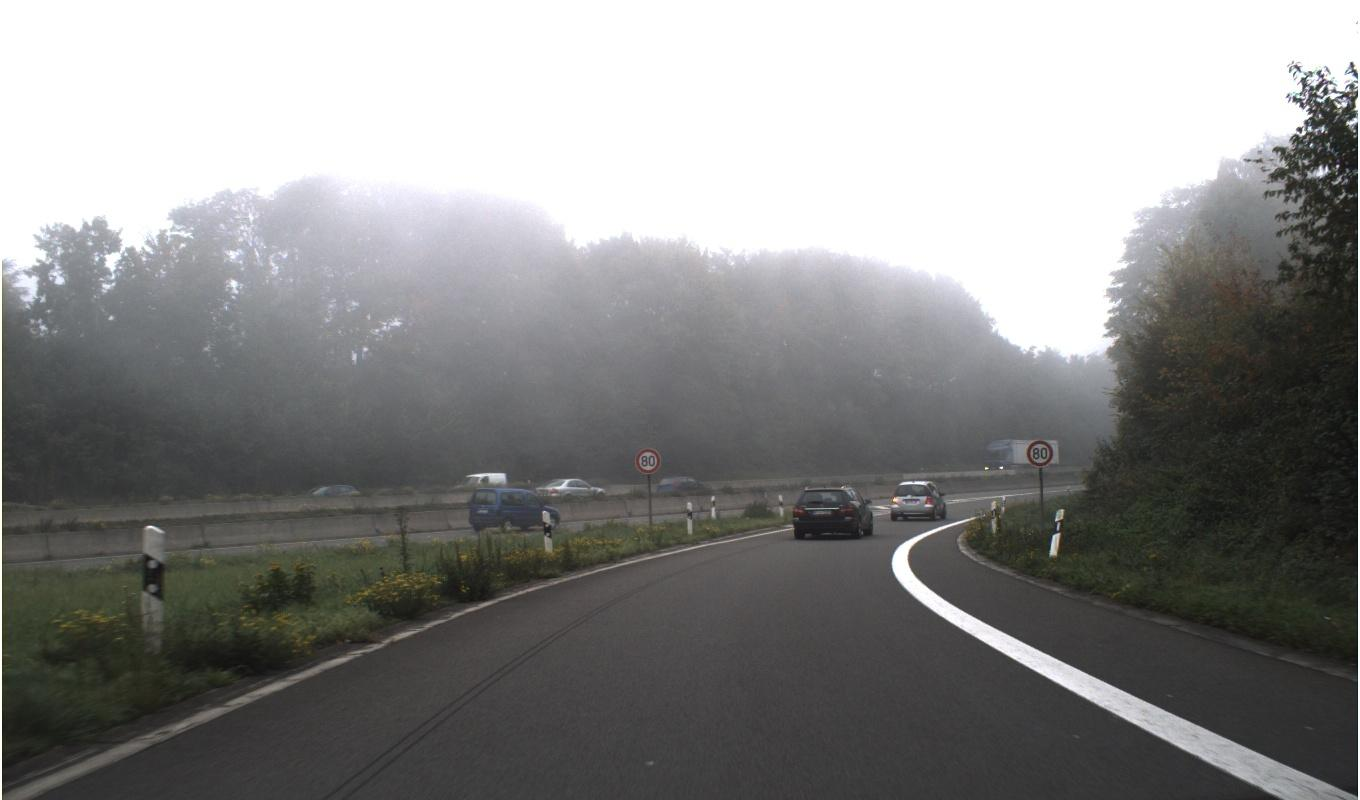NO-speed limit 80: (634, 438, 1054, 474)
